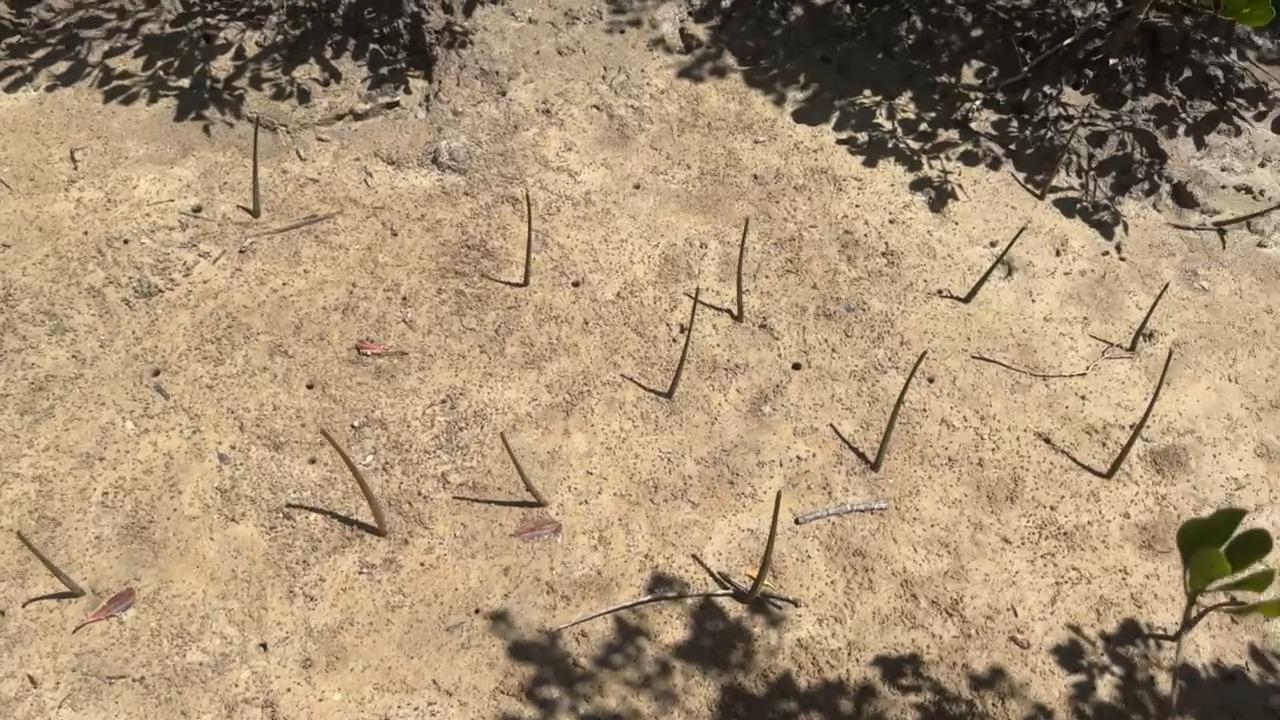Tree: (1103, 347, 1174, 480), (318, 425, 390, 538), (871, 349, 929, 474), (1038, 100, 1092, 202), (960, 226, 1026, 305), (15, 527, 87, 599), (743, 489, 783, 605), (499, 429, 550, 508), (666, 283, 700, 400), (1168, 597, 1250, 642), (1127, 280, 1170, 352), (1213, 202, 1280, 228), (735, 216, 750, 323), (251, 114, 263, 220), (523, 190, 534, 287)
